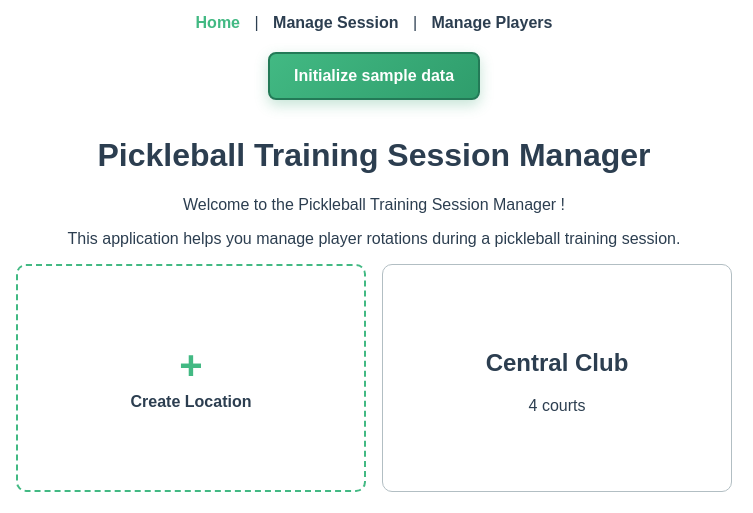
Application routes › clears the selected location from the bottom of the viewport
The width and height of the screenshot is (753, 513).
Click the button with class "location-card-select" at (558, 363), box [486,349,629,377]
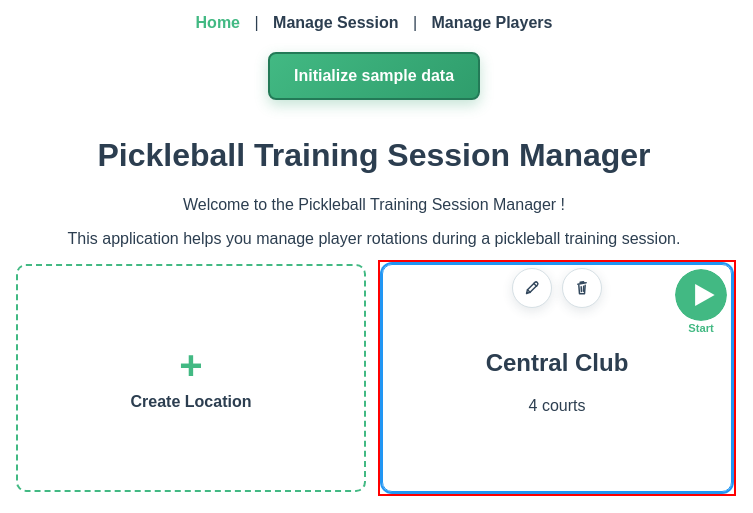
Check: the element with class "location-card-command-rail" is shown, box [512,268,602,308]
Check: the button with class "location-card-session-action" is shown, box [675,269,727,334]
Click the element with class "home" at (374, 491), box [16,52,732,492]
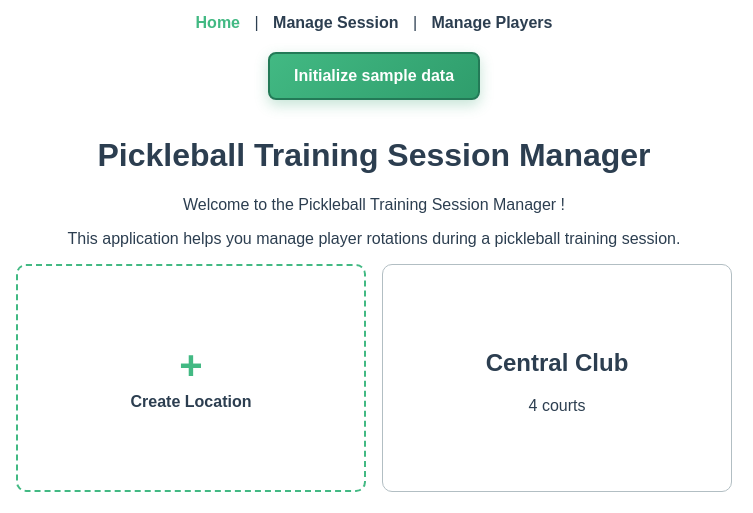
Check: the button with class "location-card-session-action" is gone
